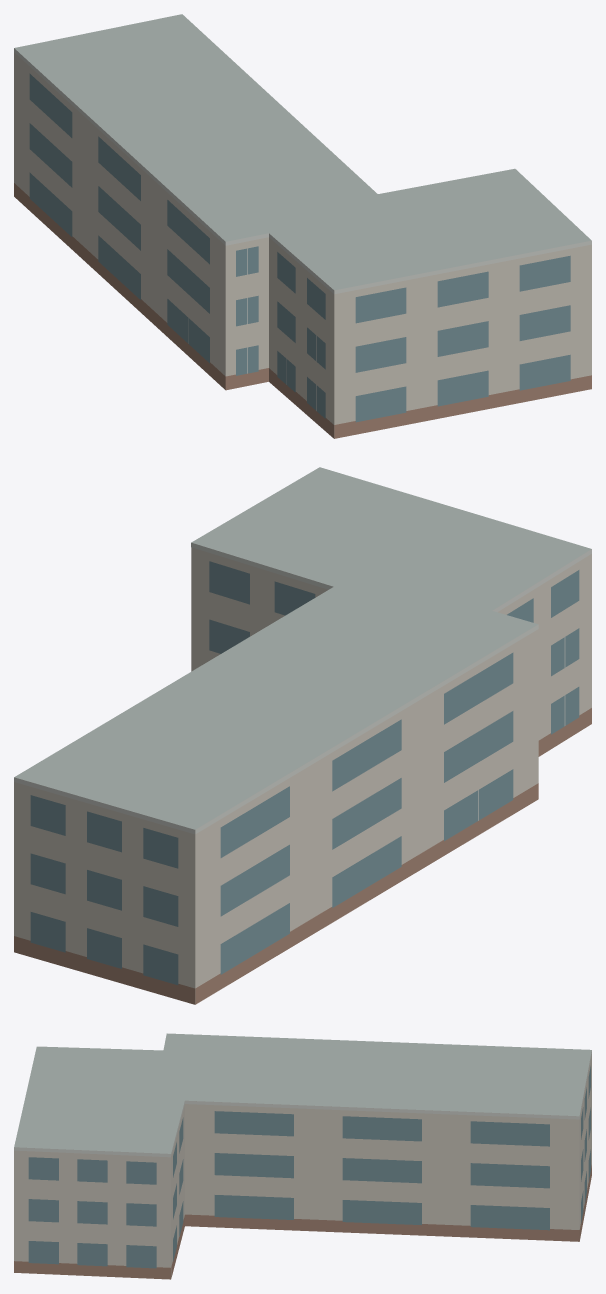
Rendered from survey-upis-32760785.glb.
3 views of the same model, one above another, from view 1: azimuth 30°, elevation 25°; view 2: azimuth 150°, elevation 25°; view 3: azimuth 270°, elevation 25° (orthographic). The views are drawn at different scales.
Visible parts, largest first — view 1: survey-upis-32760785.tmp; view 2: survey-upis-32760785.tmp; view 3: survey-upis-32760785.tmp.
Boxes of the visible parts, box(x1,y1,x2,y2) form: survey-upis-32760785.tmp: box(14, 14, 591, 438); survey-upis-32760785.tmp: box(14, 467, 591, 1004); survey-upis-32760785.tmp: box(14, 1033, 591, 1279).
Size of the model in its own units: 18.85 by 9.15 by 38.18.
